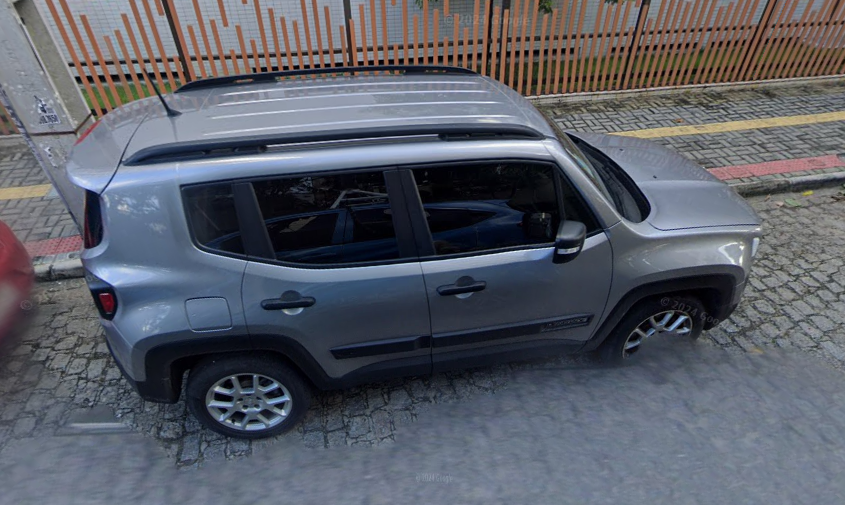car: (59, 57, 769, 450)
